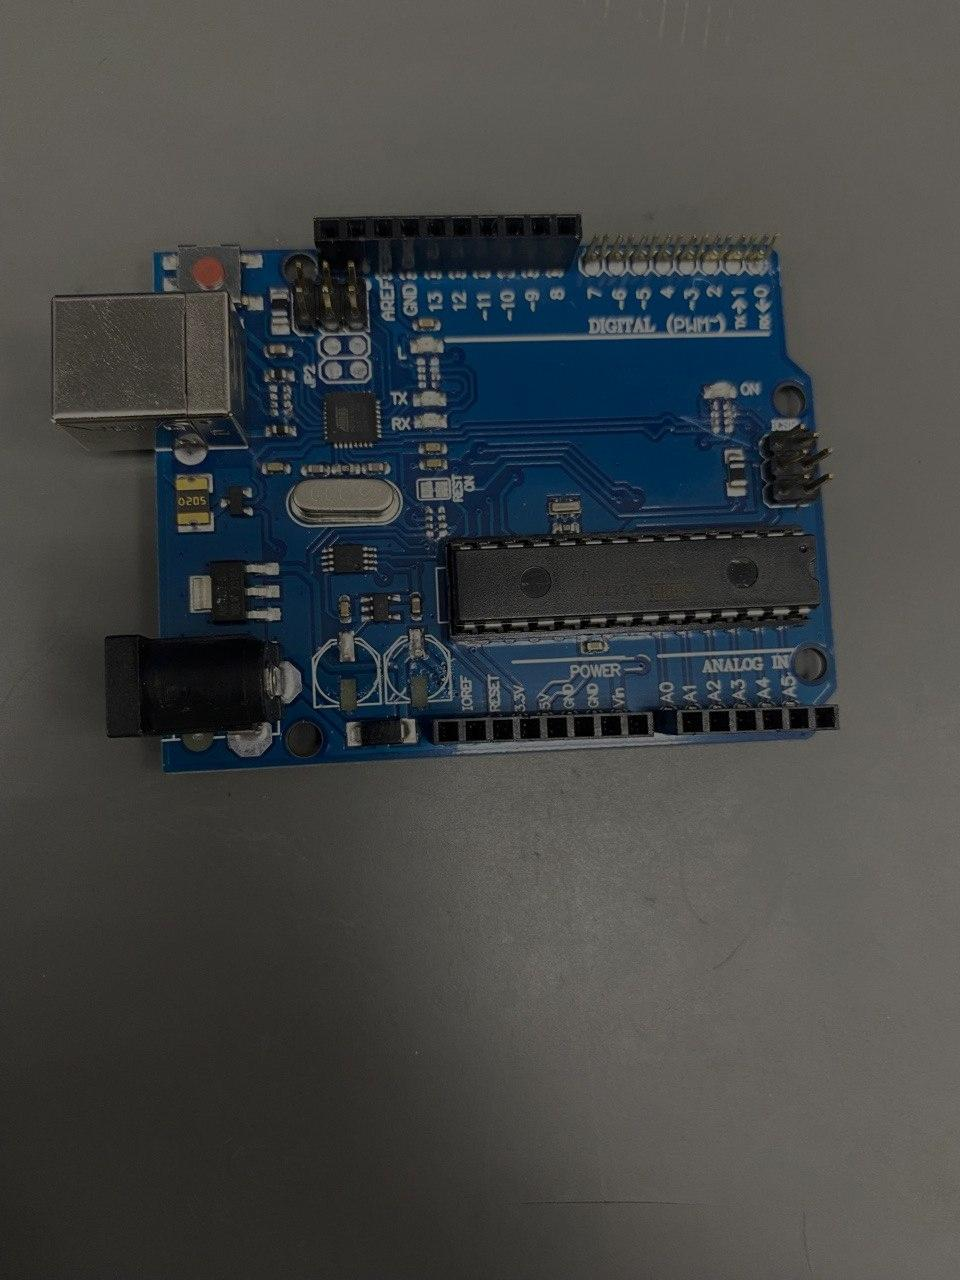ATmega328 chip: (445, 524, 821, 642)
Arduino board: (49, 216, 841, 774)
USB: (49, 290, 246, 455)
pins: (314, 213, 584, 277), (424, 712, 653, 745), (653, 703, 839, 737)
